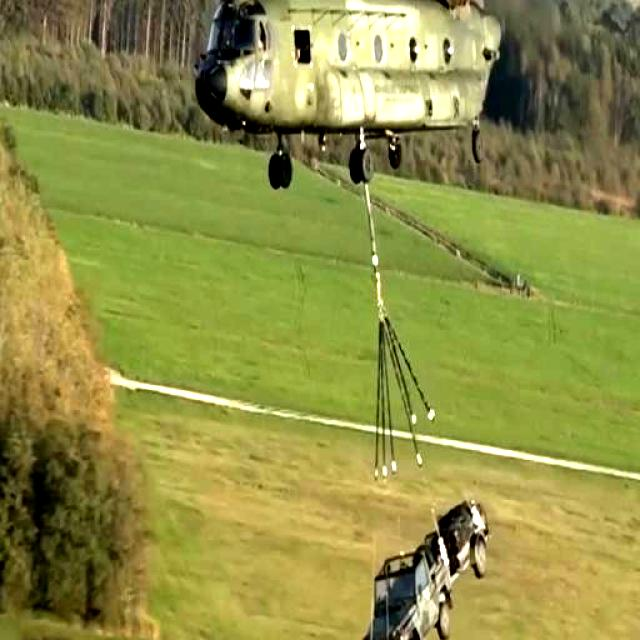drone: (178, 0, 616, 185)
